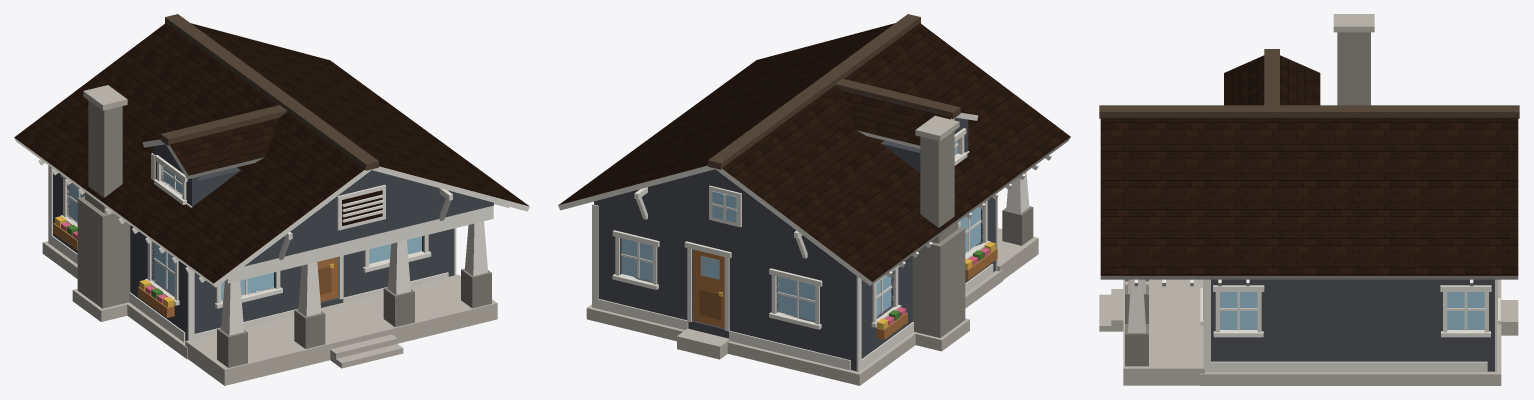
The model's file is base-04-level1.glb.
3 views of the same model, side by side, from view 1: azimuth 30°, elevation 25°; view 2: azimuth 150°, elevation 25°; view 3: azimuth 270°, elevation 25° (orthographic). The views are drawn at different scales.
Parts seen in each view (by area): view 1: base_house_4_finished; view 2: base_house_4_finished; view 3: base_house_4_finished.
Boxes of the visible parts, box(x1,y1,x2,y2) form: base_house_4_finished: box(14, 14, 529, 385); base_house_4_finished: box(558, 14, 1070, 385); base_house_4_finished: box(1099, 14, 1519, 385).
Bounding box in the file's own units: 10.42 × 6.56 × 11.28.
15 materials, 1 textured.
